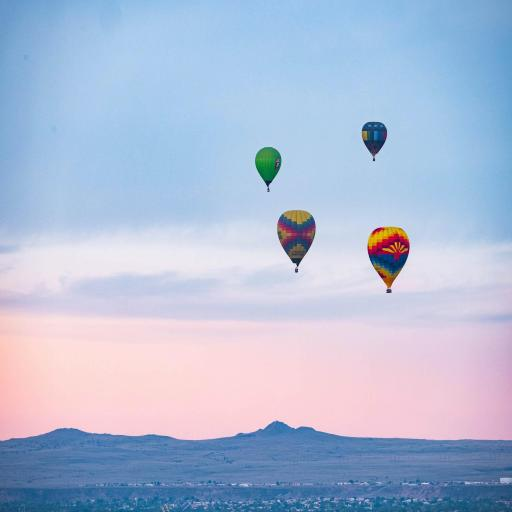hot air ballon: (367, 227, 410, 294), (277, 210, 316, 272), (255, 147, 282, 192), (361, 122, 387, 161)
